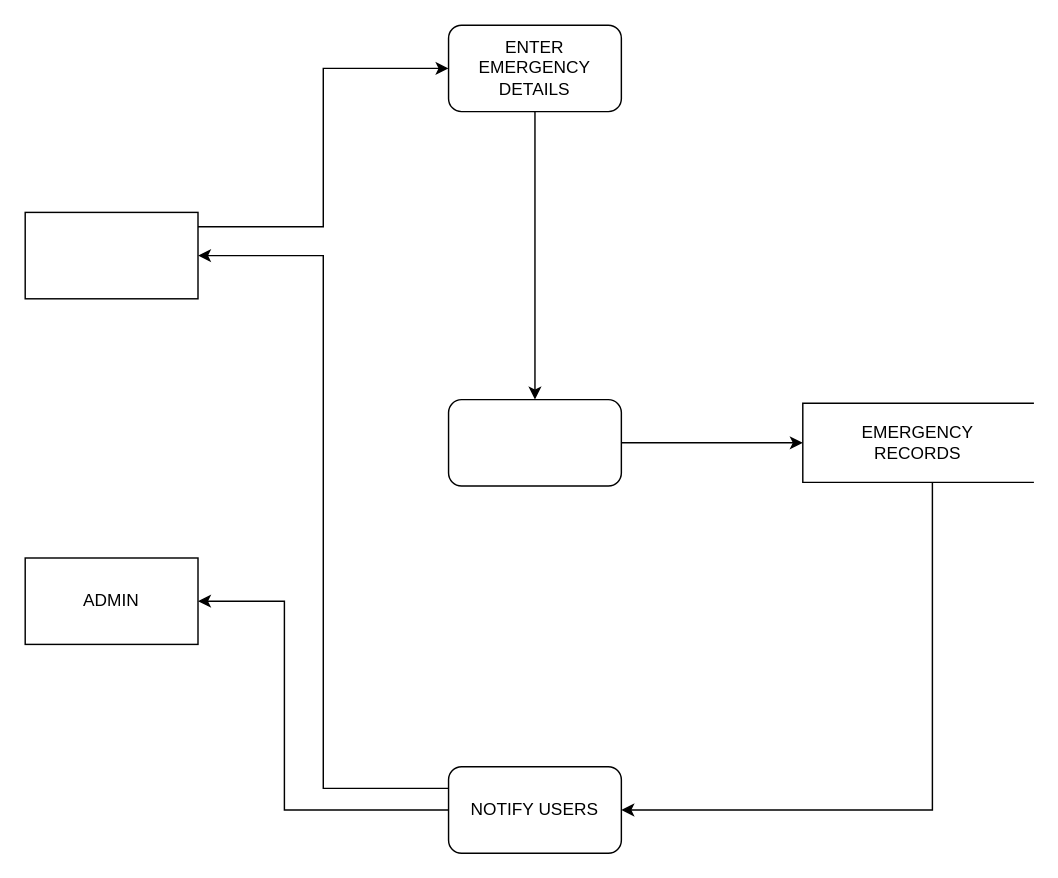
The diagram is 1058 pixels wide and 878 high, and some of its shapes have lost their labels. Each missing label, with the centre of its shape:
CREATE EMERGENCY IN FIREBASE: (x=534, y=442)
USER: (x=111, y=255)
